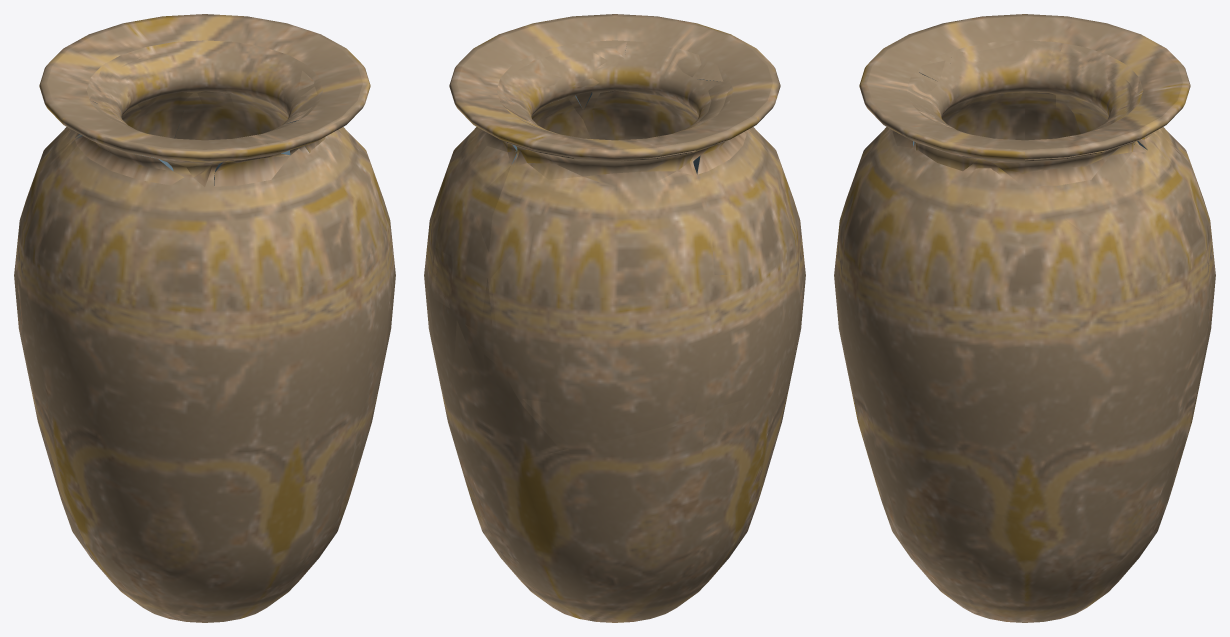
The model's file is Breakable_Ceramic_Vase_A_05.fbx.
3 renders of one model, left to right at view 1: azimuth 30°, elevation 25°; view 2: azimuth 150°, elevation 25°; view 3: azimuth 270°, elevation 25°, orthographic.
Visible parts, largest first — view 1: Breakable_Ceramic_Vase_A_05_Body, Breakable_Ceramic_Vase_A_05_cell.006, Breakable_Ceramic_Vase_A_05_cell.005, Breakable_Ceramic_Vase_A_05_cell.004, Breakable_Ceramic_Vase_A_05_cell.002, Breakable_Ceramic_Vase_A_05_cell.003; view 2: Breakable_Ceramic_Vase_A_05_Body, Breakable_Ceramic_Vase_A_05_cell.002, Breakable_Ceramic_Vase_A_05_cell, Breakable_Ceramic_Vase_A_05_cell.007, Breakable_Ceramic_Vase_A_05_cell.006, Breakable_Ceramic_Vase_A_05_cell.005, Breakable_Ceramic_Vase_A_05_cell.004, Breakable_Ceramic_Vase_A_05_cell.008; view 3: Breakable_Ceramic_Vase_A_05_Body, Breakable_Ceramic_Vase_A_05_cell, Breakable_Ceramic_Vase_A_05_cell.004, Breakable_Ceramic_Vase_A_05_cell.007, Breakable_Ceramic_Vase_A_05_cell.006, Breakable_Ceramic_Vase_A_05_cell.002, Breakable_Ceramic_Vase_A_05_cell.008, Breakable_Ceramic_Vase_A_05_cell.005.
Boxes of the visible parts, x1=… form: Breakable_Ceramic_Vase_A_05_Body: x1=14, y1=14, x2=395, y2=622; Breakable_Ceramic_Vase_A_05_cell.006: x1=15, y1=106, x2=183, y2=362; Breakable_Ceramic_Vase_A_05_cell.005: x1=214, y1=129, x2=305, y2=186; Breakable_Ceramic_Vase_A_05_cell.004: x1=174, y1=70, x2=314, y2=140; Breakable_Ceramic_Vase_A_05_cell.002: x1=21, y1=53, x2=192, y2=219; Breakable_Ceramic_Vase_A_05_cell.003: x1=162, y1=159, x2=226, y2=186; Breakable_Ceramic_Vase_A_05_Body: x1=424, y1=14, x2=805, y2=618; Breakable_Ceramic_Vase_A_05_cell.002: x1=491, y1=140, x2=711, y2=444; Breakable_Ceramic_Vase_A_05_cell: x1=458, y1=405, x2=743, y2=622; Breakable_Ceramic_Vase_A_05_cell.007: x1=427, y1=97, x2=590, y2=461; Breakable_Ceramic_Vase_A_05_cell.006: x1=684, y1=84, x2=749, y2=409; Breakable_Ceramic_Vase_A_05_cell.005: x1=592, y1=47, x2=701, y2=140; Breakable_Ceramic_Vase_A_05_cell.004: x1=435, y1=59, x2=561, y2=357; Breakable_Ceramic_Vase_A_05_cell.008: x1=545, y1=41, x2=627, y2=110; Breakable_Ceramic_Vase_A_05_Body: x1=834, y1=14, x2=1215, y2=621; Breakable_Ceramic_Vase_A_05_cell: x1=943, y1=398, x2=1196, y2=622; Breakable_Ceramic_Vase_A_05_cell.004: x1=985, y1=140, x2=1211, y2=309; Breakable_Ceramic_Vase_A_05_cell.007: x1=964, y1=168, x2=1209, y2=510; Breakable_Ceramic_Vase_A_05_cell.006: x1=941, y1=40, x2=1058, y2=140; Breakable_Ceramic_Vase_A_05_cell.002: x1=1059, y1=43, x2=1215, y2=286; Breakable_Ceramic_Vase_A_05_cell.008: x1=916, y1=111, x2=978, y2=171; Breakable_Ceramic_Vase_A_05_cell.005: x1=892, y1=77, x2=936, y2=147.
Bounding box in the file's own units: 0.1597 × 0.2389 × 0.1597.
